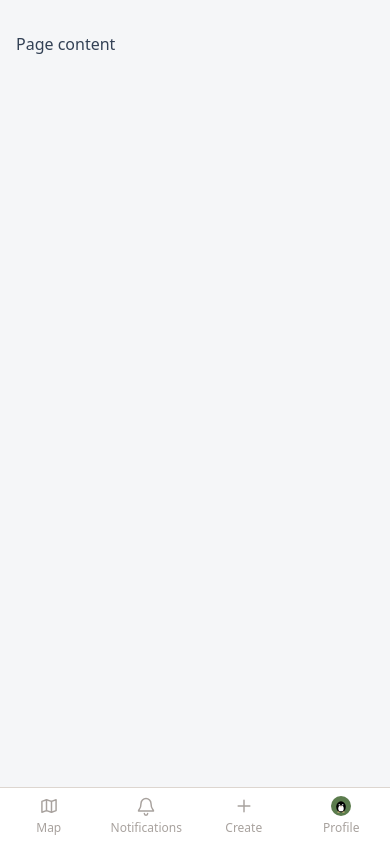
Test: ContentArea › puts Submit A Feature Request in the phone create panel
Expected: the button "Submit A Feature Request" is not shown
Click the button "Create" at (244, 816), box [195,788,292,843]
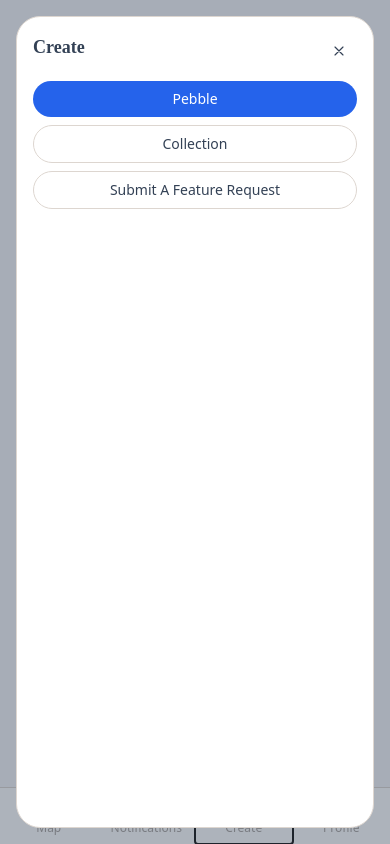
Click the button "Submit A Feature Request" at (195, 190), box [33,171,357,209]
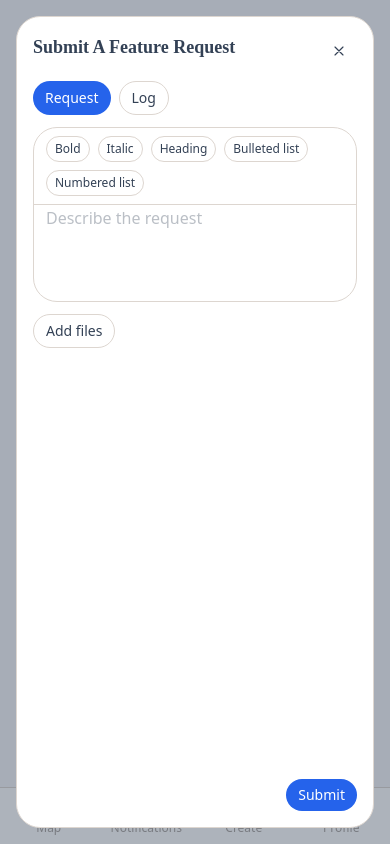
Now the element with test id "feature-request-modal" is shown
Now the element with test id "create-modal" is gone
